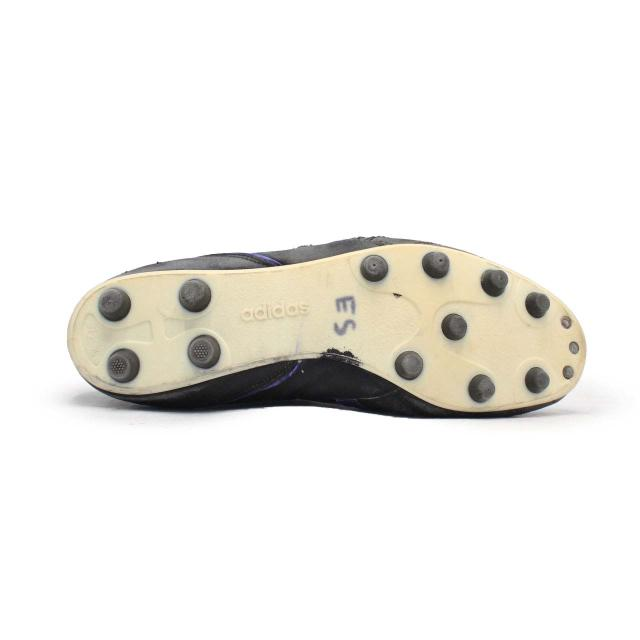outersole: (67, 237, 586, 416)
